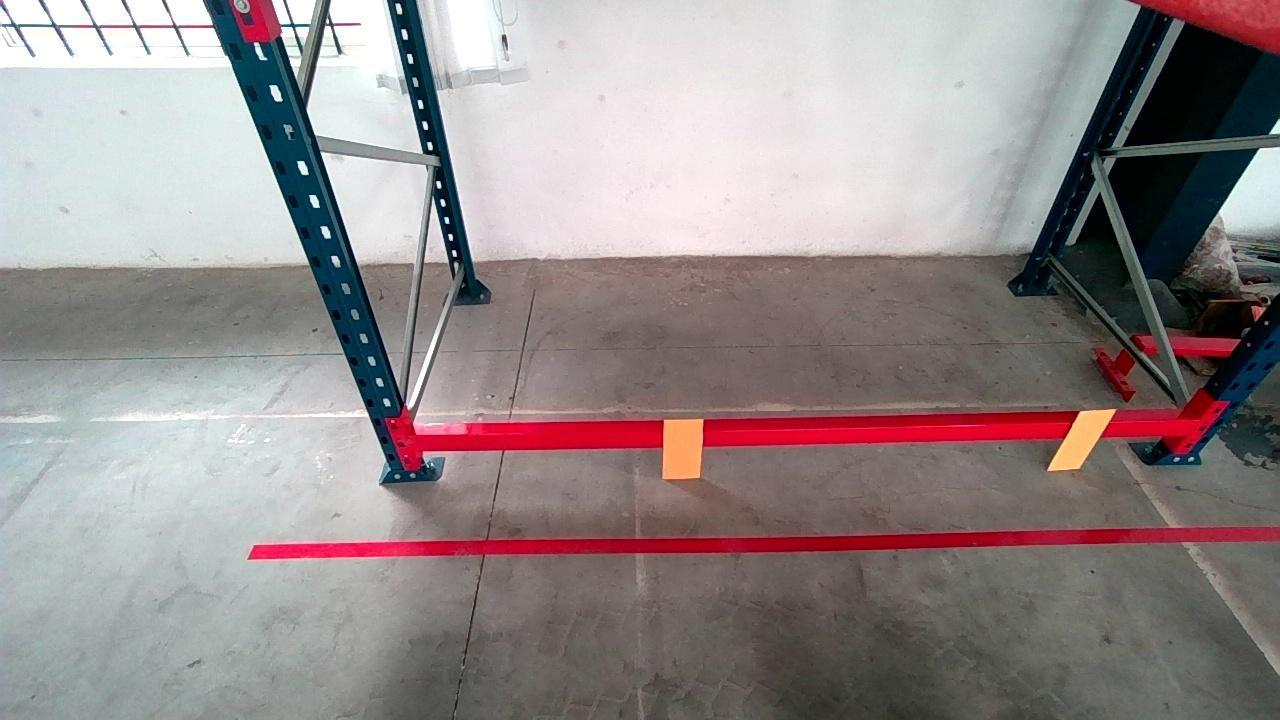h_rack: (417, 405, 1190, 456)
orange_strip: (1050, 408, 1117, 469), (662, 417, 704, 478)
red_line: (265, 521, 1270, 566)
